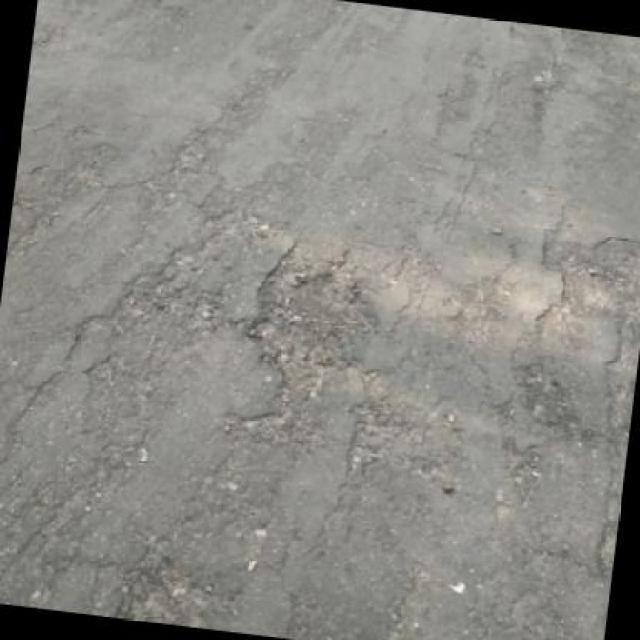pothole1: (238, 246, 396, 400), (114, 552, 240, 630), (557, 220, 638, 317)
